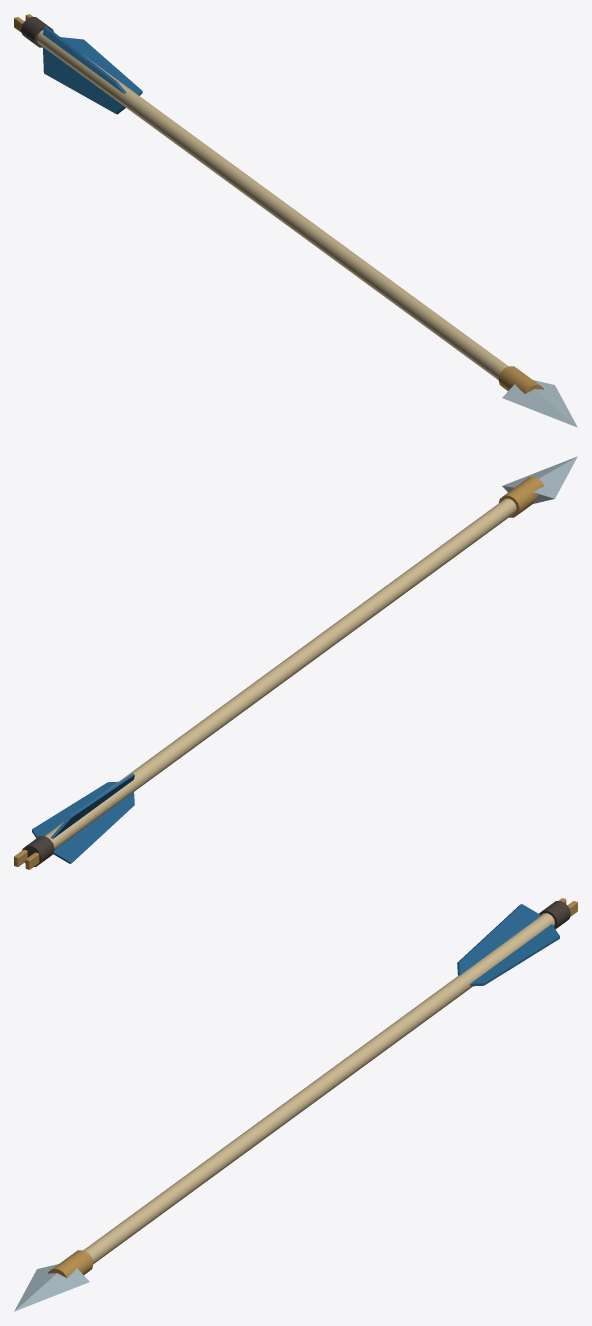
File: Arrow.fbx
The picture shows the model from 3 angles, top to bottom: view 1: azimuth 30°, elevation 25°; view 2: azimuth 150°, elevation 25°; view 3: azimuth 330°, elevation 25°; orthographic projection.
Parts seen in each view (by area): view 1: Arrow; view 2: Arrow; view 3: Arrow.
Part boxes in pixels (bbox=[...]): Arrow: bbox=[14, 14, 577, 427]; Arrow: bbox=[14, 456, 577, 869]; Arrow: bbox=[14, 898, 577, 1311].
Size of the model in its own units: 5.5 by 4.8 by 100.
